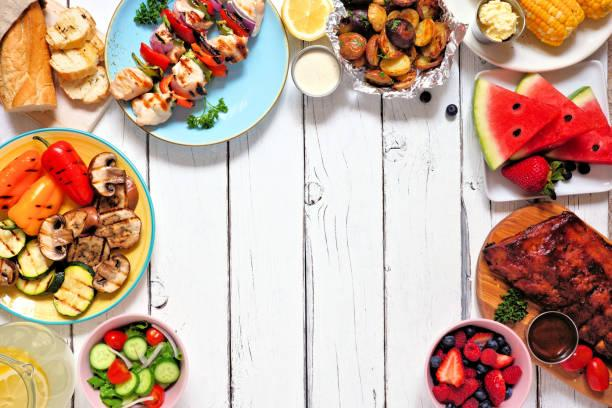Braised Crucian Carp: (0, 127, 155, 322), (106, 0, 286, 148), (474, 207, 612, 390), (470, 60, 612, 202), (323, 0, 464, 100)
